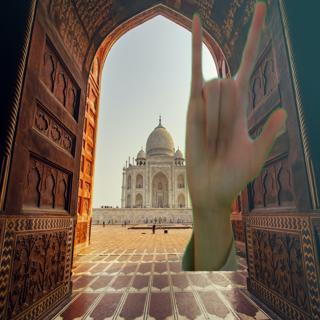ILY: (180, 1, 291, 219)
